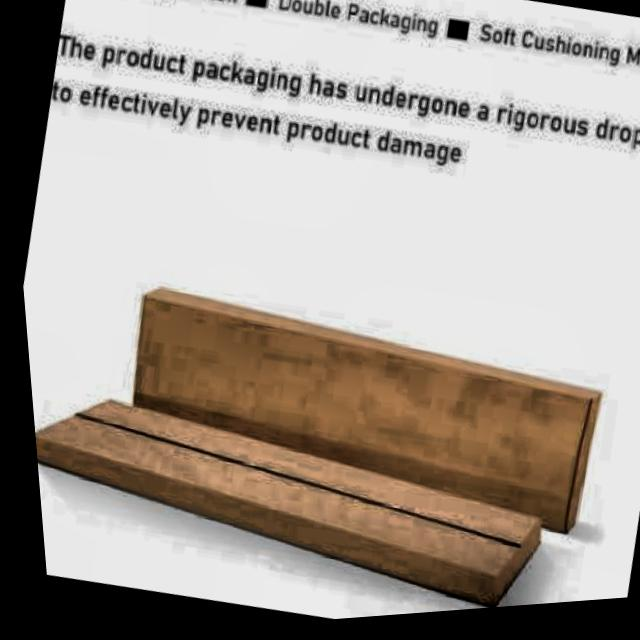Cardbox: (91, 234, 640, 587), (23, 335, 576, 640)
